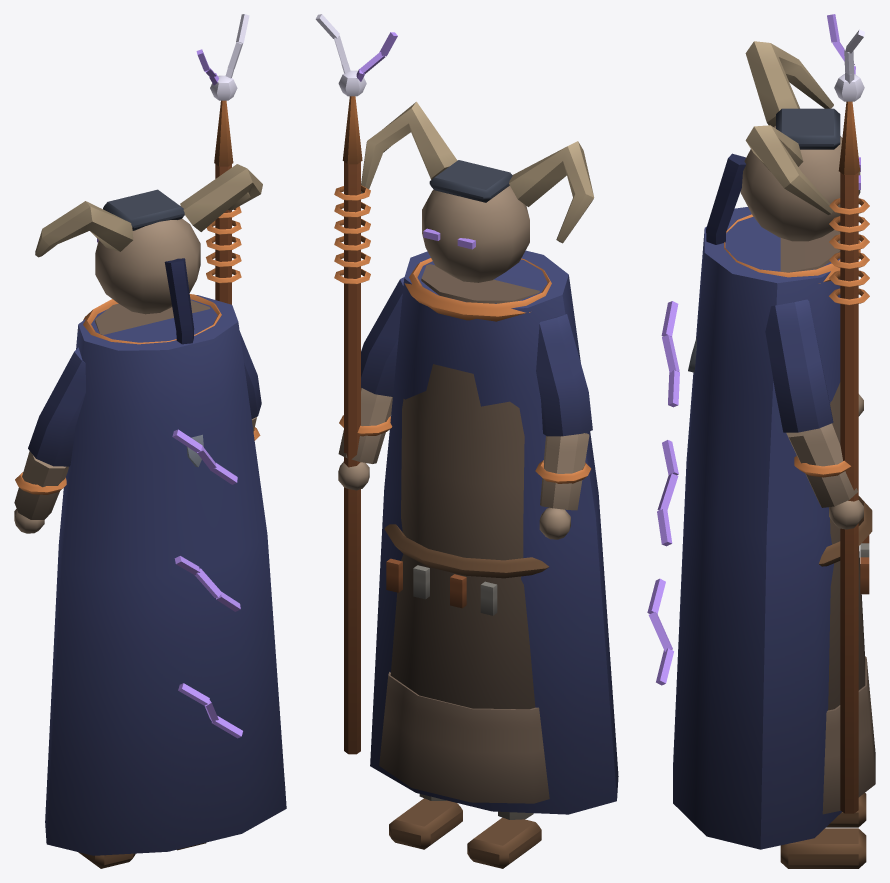
The model's file is mob_crag_channeler.fbx.
3 views of the same model, side by side, from view 1: azimuth 30°, elevation 25°; view 2: azimuth 150°, elevation 25°; view 3: azimuth 270°, elevation 25° (orthographic). The views are drawn at different scales.
Visible parts, largest first — view 1: Body, Head, ArmL, ForearmR, ForearmL, Body_Glow_Storm, ForearmR_Glow_Spark, ArmR; view 2: Body, Head, ForearmR, ArmL, ForearmL, ArmR, KneeL, KneeR, ForearmR_Glow_Spark; view 3: Body, ForearmR, Head, ArmR, Body_Glow_Storm, KneeR, ForearmR_Glow_Spark, KneeL.
Part boxes in pixels (x1=…): Body: x1=45, y1=294, x2=286, y2=855; Head: x1=35, y1=164, x2=262, y2=467; ArmL: x1=28, y1=347, x2=85, y2=466; ForearmR: x1=206, y1=100, x2=260, y2=440; ForearmL: x1=14, y1=451, x2=68, y2=533; Body_Glow_Storm: x1=172, y1=429, x2=242, y2=738; ForearmR_Glow_Spark: x1=210, y1=14, x2=249, y2=100; ArmR: x1=239, y1=331, x2=261, y2=419; Body: x1=370, y1=250, x2=618, y2=814; Head: x1=361, y1=101, x2=594, y2=282; ForearmR: x1=334, y1=96, x2=392, y2=754; ArmL: x1=536, y1=314, x2=592, y2=436; ForearmL: x1=535, y1=433, x2=591, y2=539; ArmR: x1=361, y1=277, x2=404, y2=396; KneeL: x1=467, y1=811, x2=541, y2=868; KneeR: x1=389, y1=794, x2=462, y2=849; ForearmR_Glow_Spark: x1=315, y1=14, x2=366, y2=96; Body: x1=673, y1=207, x2=875, y2=849; ForearmR: x1=786, y1=101, x2=869, y2=813; Head: x1=688, y1=41, x2=860, y2=372; ArmR: x1=765, y1=299, x2=833, y2=432; Body_Glow_Storm: x1=647, y1=301, x2=679, y2=685; KneeR: x1=780, y1=828, x2=866, y2=868; ForearmR_Glow_Spark: x1=834, y1=29, x2=864, y2=101; KneeL: x1=826, y1=793, x2=866, y2=827.
Bounding box in the file's own units: 207 × 632 × 149.
3 materials, 1 textured.
